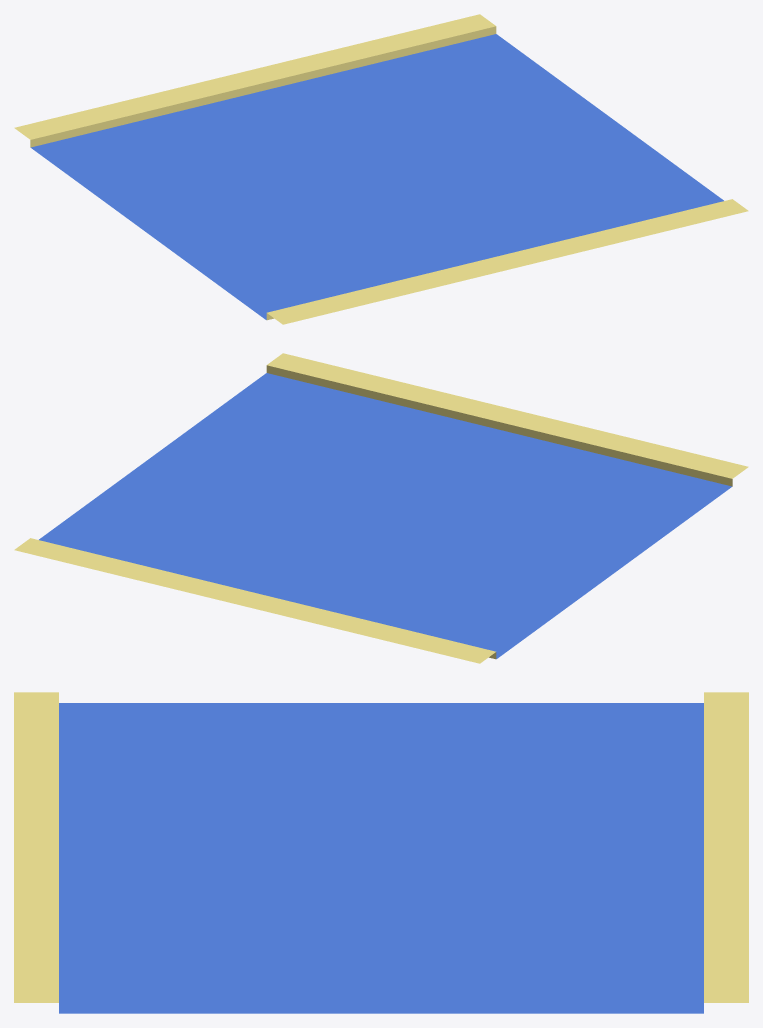
Rendered from water_straight.FBX.
The picture shows the model from 3 angles, top to bottom: view 1: azimuth 30°, elevation 25°; view 2: azimuth 150°, elevation 25°; view 3: azimuth 270°, elevation 25°; orthographic projection. The views are drawn at different scales.
Parts seen in each view (by area): view 1: water_straight; view 2: water_straight; view 3: water_straight.
Part boxes in pixels (x1,y1,x2,y2): water_straight: (14, 14, 748, 324); water_straight: (14, 353, 748, 663); water_straight: (14, 692, 748, 1013).
Bounding box in the file's own units: 10 × 0.1577 × 10.
